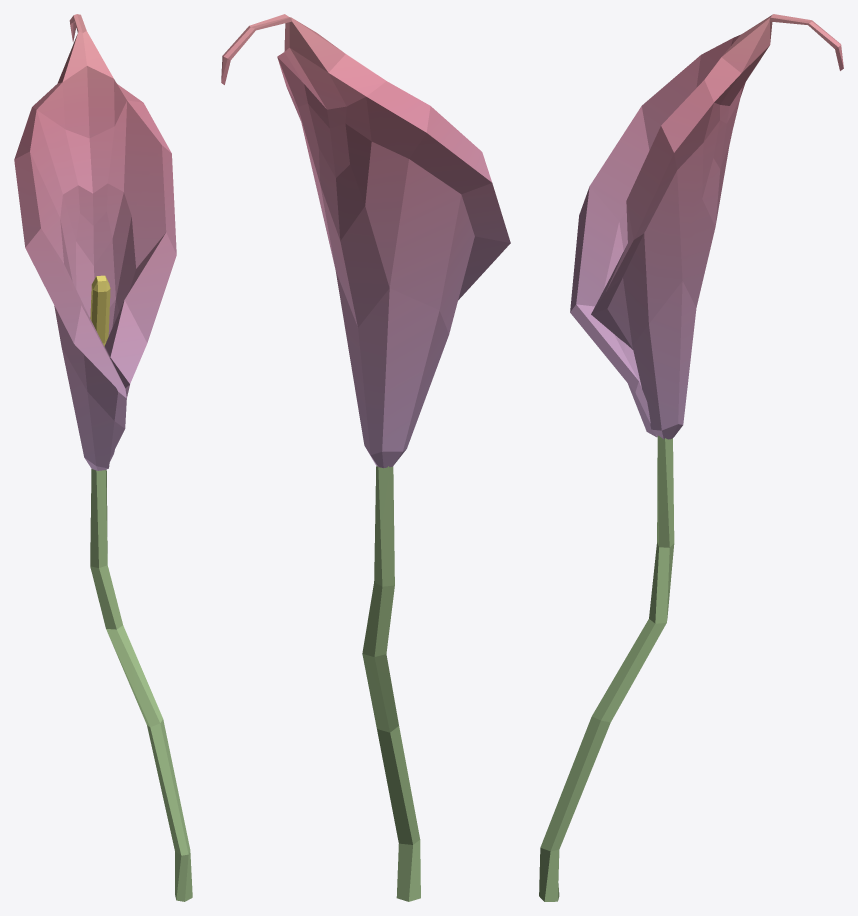
Rendered from CallaLily_Pink.fbx.
3 renders of one model, left to right at view 1: azimuth 30°, elevation 25°; view 2: azimuth 150°, elevation 25°; view 3: azimuth 270°, elevation 25°, orthographic. The views are drawn at different scales.
Parts seen in each view (by area): view 1: CallaLily_Pink; view 2: CallaLily_Pink; view 3: CallaLily_Pink.
Part boxes in pixels (x1,y1,x2,y2): CallaLily_Pink: (14, 14, 192, 901); CallaLily_Pink: (221, 14, 510, 901); CallaLily_Pink: (539, 14, 843, 901).
Size of the model in its own units: 14.75 by 71.1 by 22.25.
